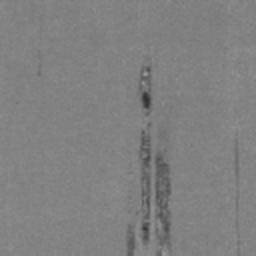Slag inclusion: (139, 130, 171, 249), (138, 65, 153, 116), (126, 225, 136, 256)
